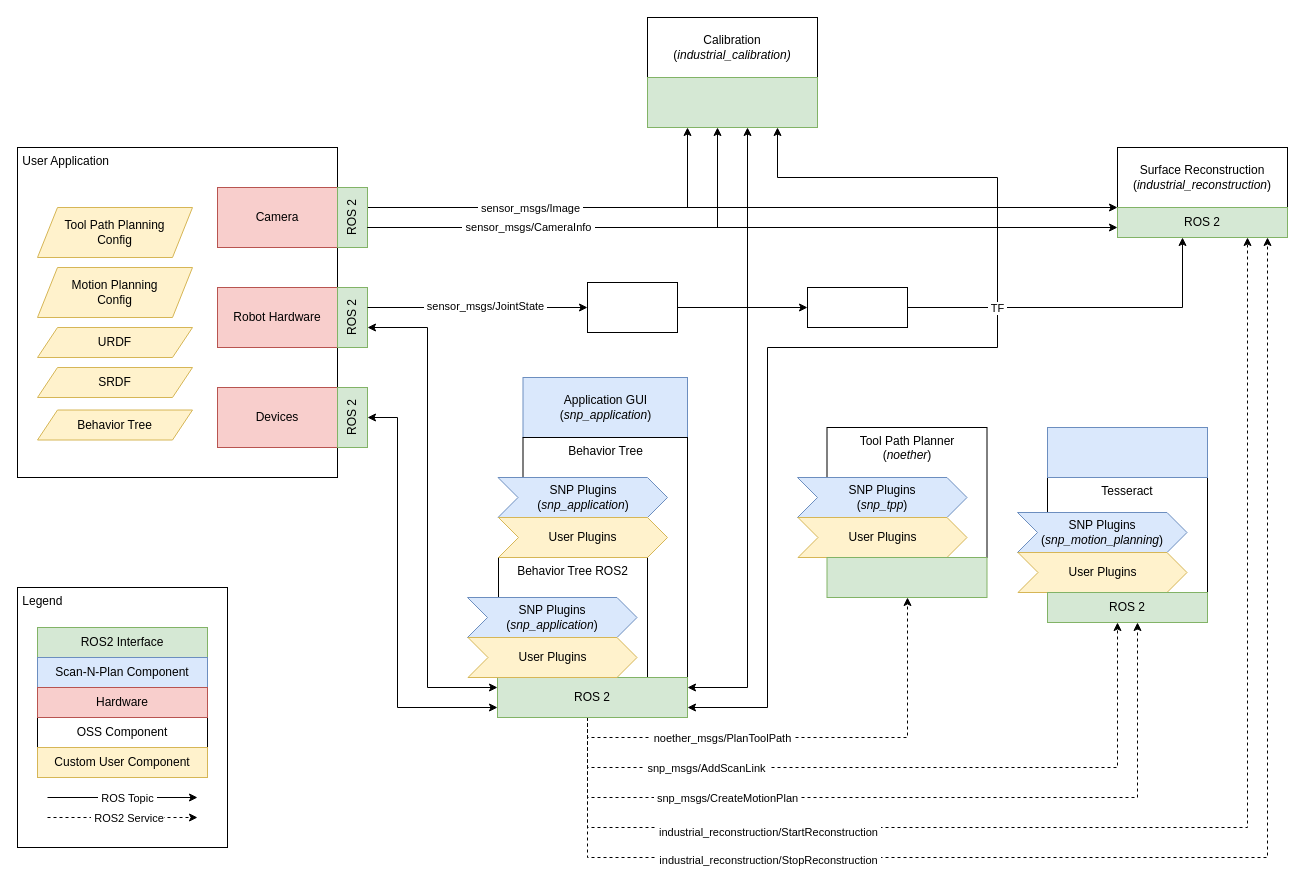
This 1305x884 diagram has some shape labels left out. The shapes that lost their labels are listed below. From the top down, each one's centre as x and y in pixels, then its label:
(732,102): ROS 2 ( industrial_calibration_ros)
(632,307): Joint State Publisher
(857,307): Robot State Publisher
(1127,452): Motion Planner ( snp_motion_planning )
(906,577): ROS 2 ( noether_ros )
